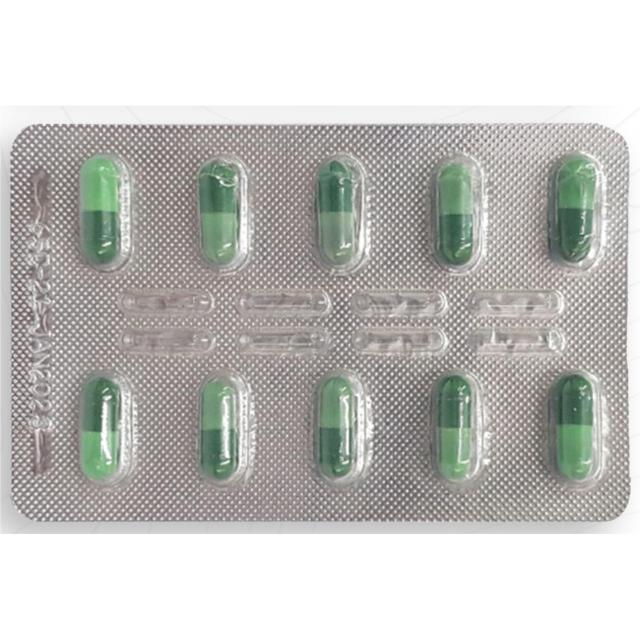blister: (1, 118, 634, 527)
